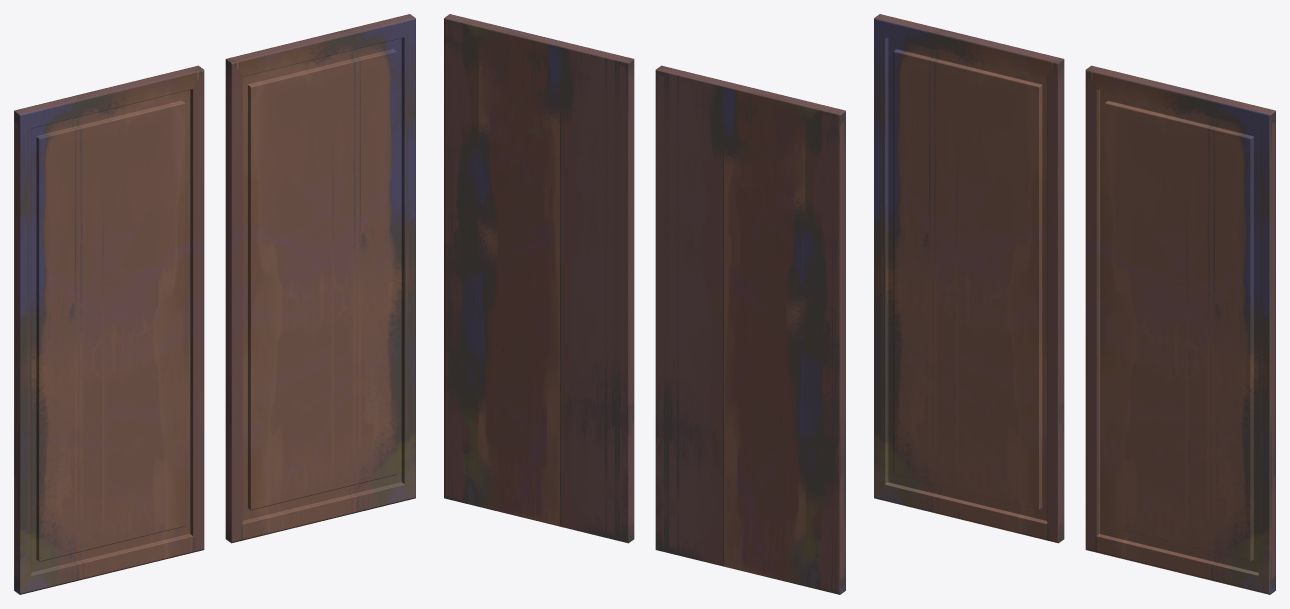
Rendered from ClosetDoor_A.fbx.
The picture shows the model from 3 angles, left to right: view 1: azimuth 30°, elevation 25°; view 2: azimuth 150°, elevation 25°; view 3: azimuth 330°, elevation 25°; orthographic projection.
Visible parts, largest first — view 1: CabinetDoors_A1; view 2: CabinetDoors_A1; view 3: CabinetDoors_A1.
Boxes of the visible parts, bbox=[...] form: CabinetDoors_A1: bbox=[14, 14, 415, 594]; CabinetDoors_A1: bbox=[444, 14, 845, 594]; CabinetDoors_A1: bbox=[874, 14, 1275, 594].
Size of the model in its own units: 113 by 130 by 2.91.
